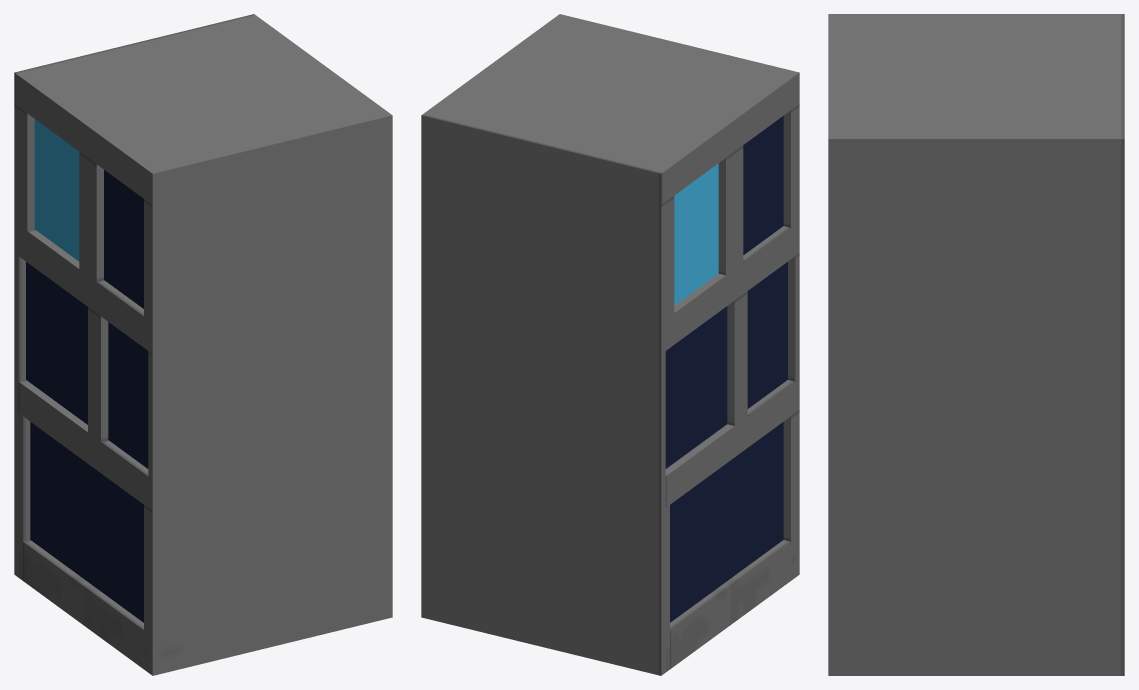
Rendered from PIĘTRO_2_2.dae.
3 renders of one model, left to right at view 1: azimuth 30°, elevation 25°; view 2: azimuth 150°, elevation 25°; view 3: azimuth 270°, elevation 25°, orthographic. The views are drawn at different scales.
Parts seen in each view (by area): view 1: Content; view 2: Content; view 3: Content.
Part boxes in pixels (box(x1,y1,x2,y2)): Content: box(14, 14, 392, 675); Content: box(421, 14, 799, 675); Content: box(828, 14, 1124, 675).
Bounding box in the file's own units: 32 × 64 × 32.
1 material, 1 textured.
